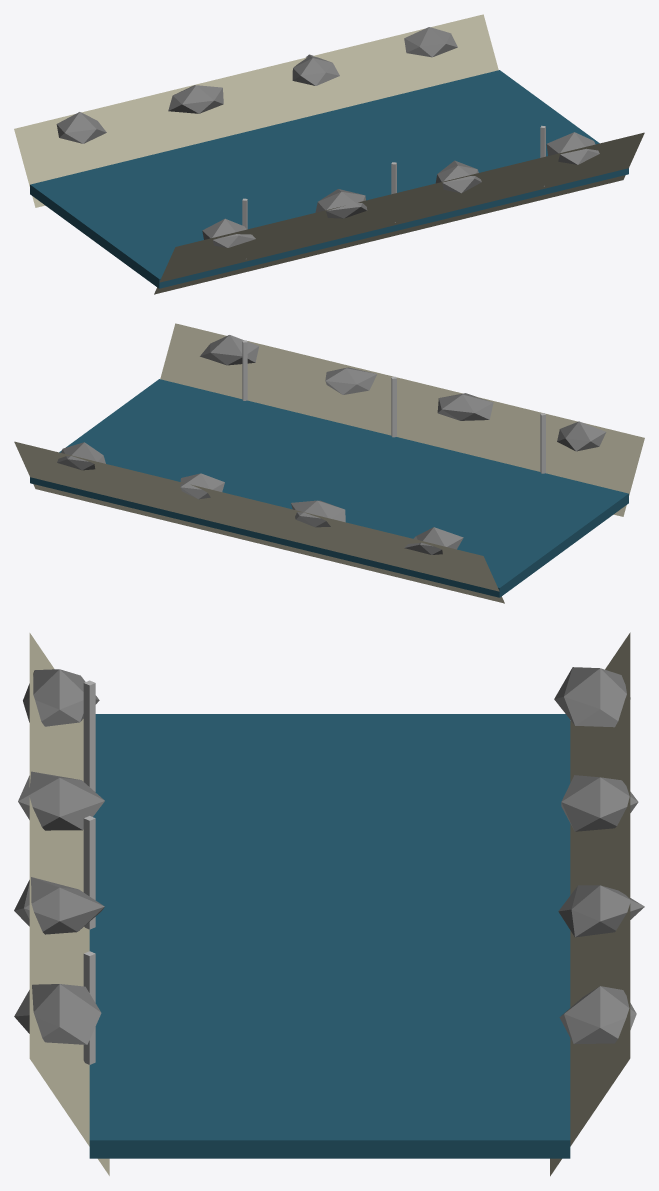
Rendered from moat.glb.
3 renders of one model, top to bottom at view 1: azimuth 30°, elevation 25°; view 2: azimuth 150°, elevation 25°; view 3: azimuth 270°, elevation 25°, orthographic. The views are drawn at different scales.
Visible parts, largest first — view 1: moat; view 2: moat; view 3: moat.
Part boxes in pixels (<box>): moat: <box>14,14,644,294</box>; moat: <box>14,323,644,603</box>; moat: <box>14,632,644,1176</box>.
Size of the model in its own units: 5.04 by 0.8 by 3.15.
